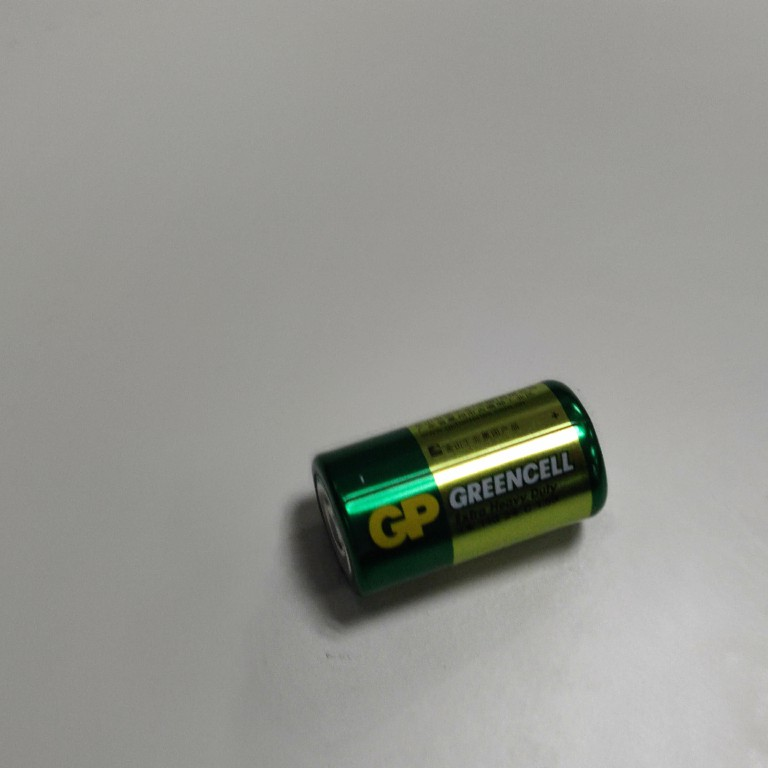charge: (298, 373, 612, 604)
